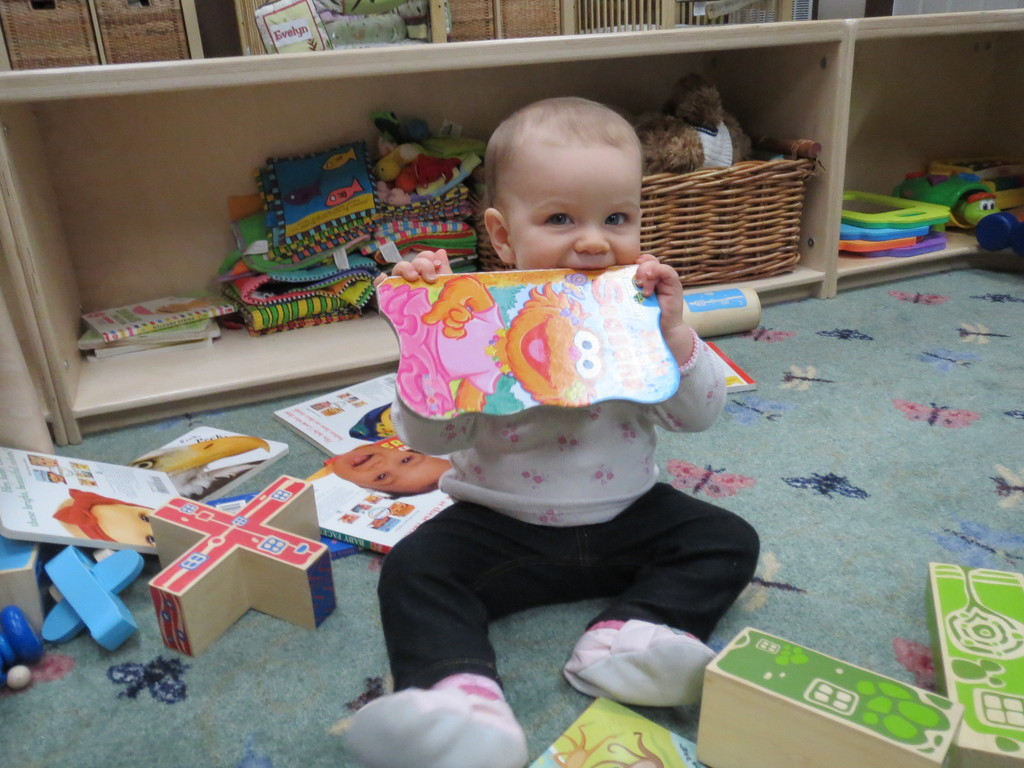Person: (342, 96, 759, 768)
